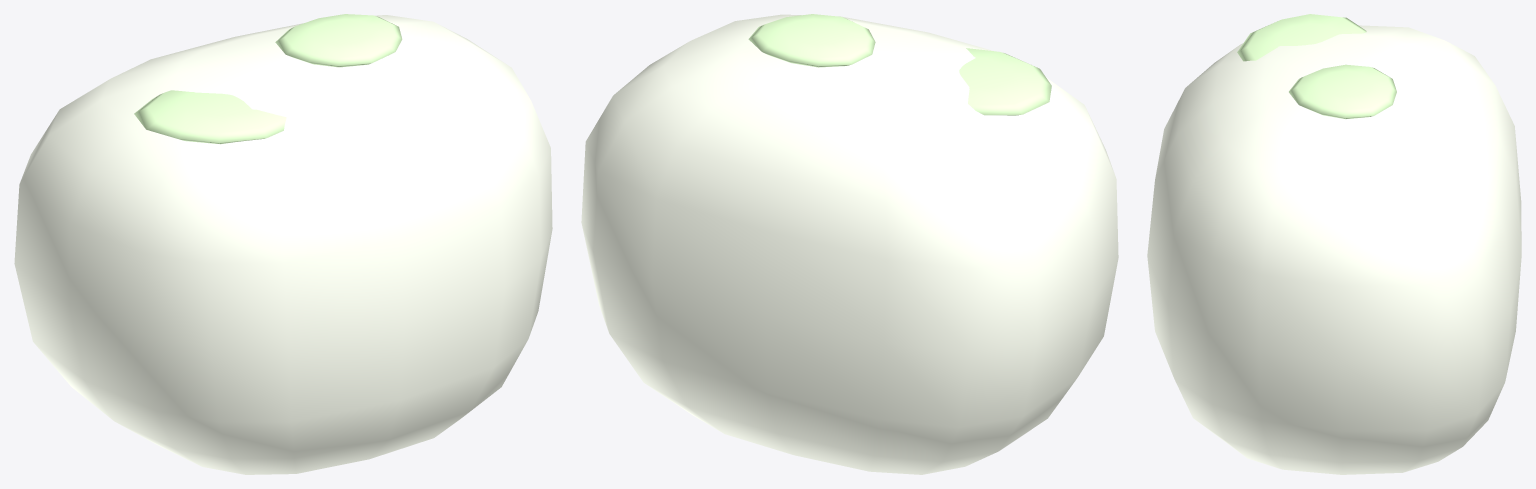
The model's file is rock-round.glb.
3 renders of one model, left to right at view 1: azimuth 30°, elevation 25°; view 2: azimuth 150°, elevation 25°; view 3: azimuth 270°, elevation 25°, orthographic. The views are drawn at different scales.
Visible parts, largest first — view 1: rock-round; view 2: rock-round; view 3: rock-round.
Part boxes in pixels (x1=…): rock-round: x1=14, y1=14, x2=552, y2=474; rock-round: x1=581, y1=14, x2=1118, y2=474; rock-round: x1=1147, y1=14, x2=1521, y2=474.
Bounding box in the file's own units: 2.7 × 2.19 × 2.
